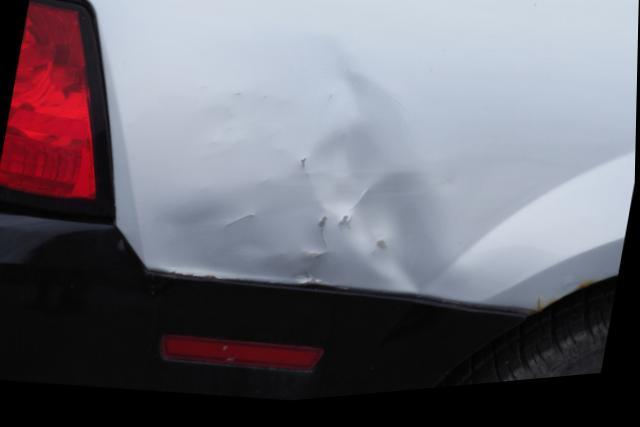dent: (158, 34, 488, 308)
